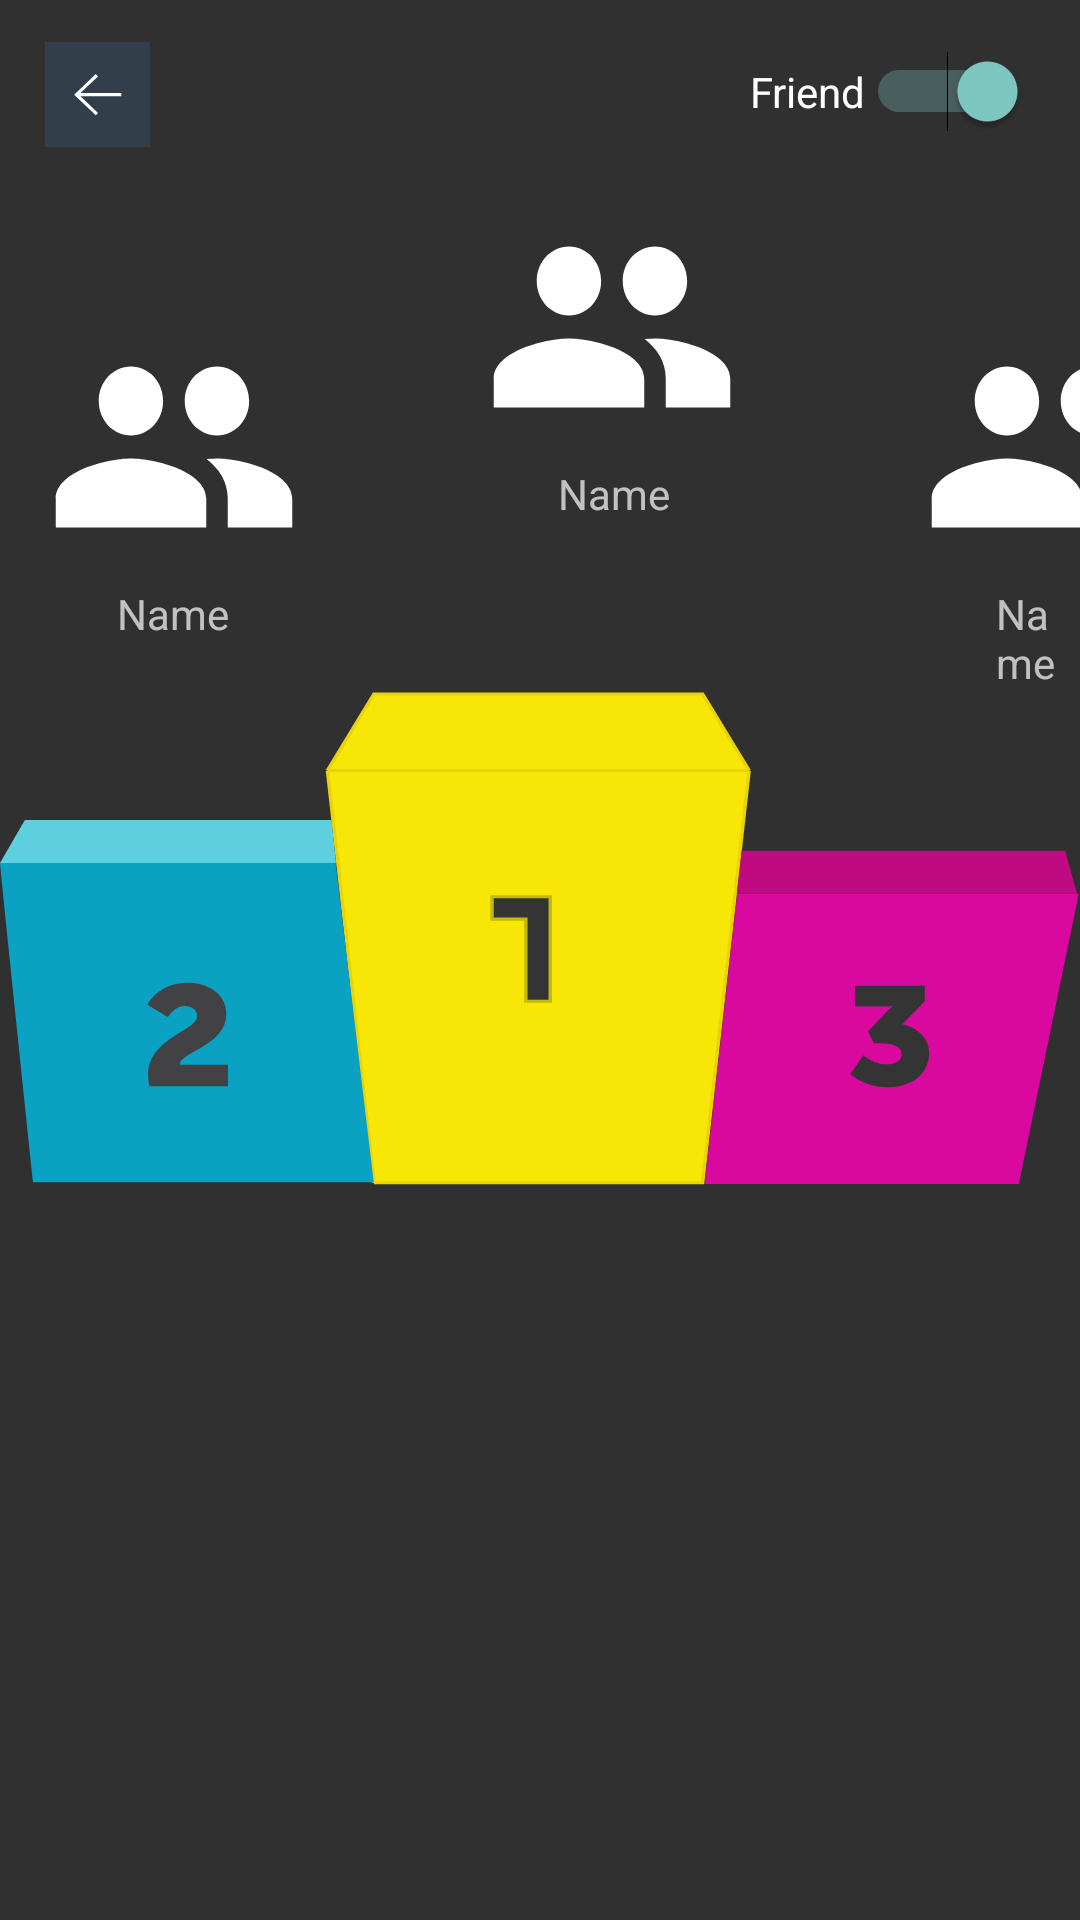

Icons on this 1080 x 1920 Android screen, each with the point to tap as [x,y]:
back arrow: [97,94]
